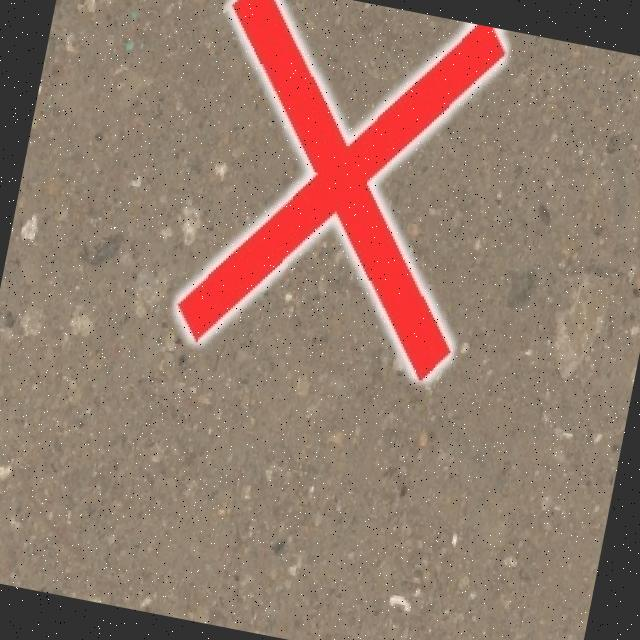x_marker: (167, 0, 511, 387)
